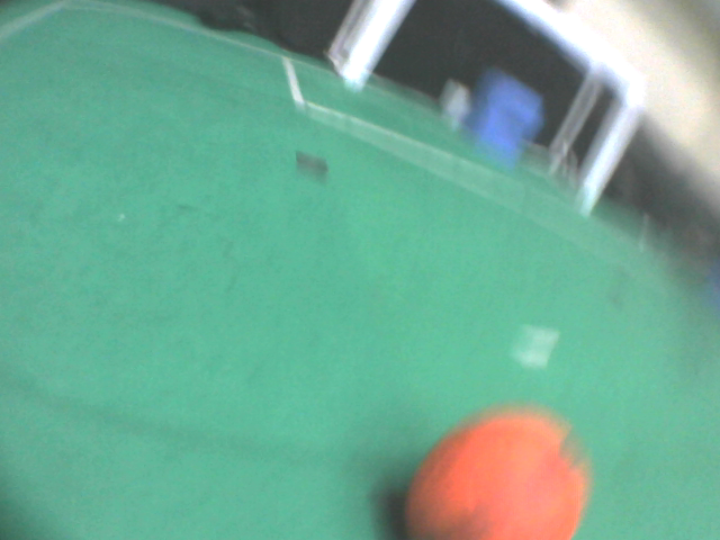bola: (400, 399, 590, 540)
